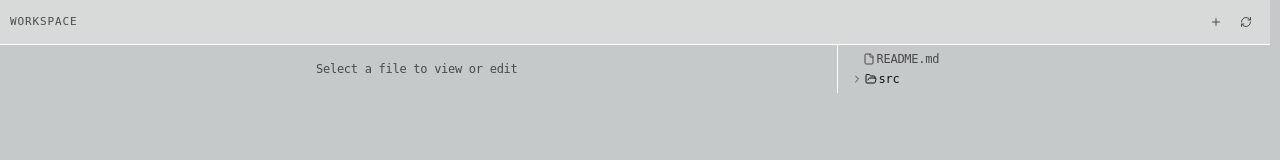
it: WorkspacePanel › renders source files through the highlighted code view
Click the button "src" at (857, 79), box [845,69,1266,89]
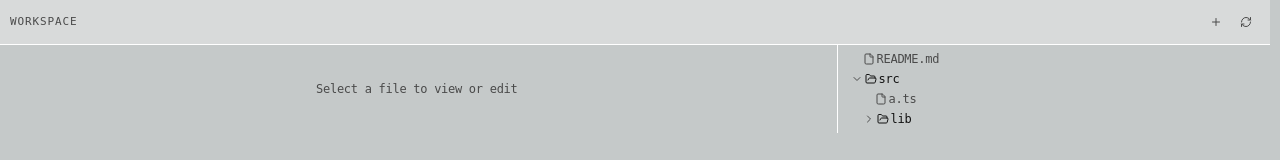
Click the button "a.ts" at (881, 99), box [845,89,1266,109]
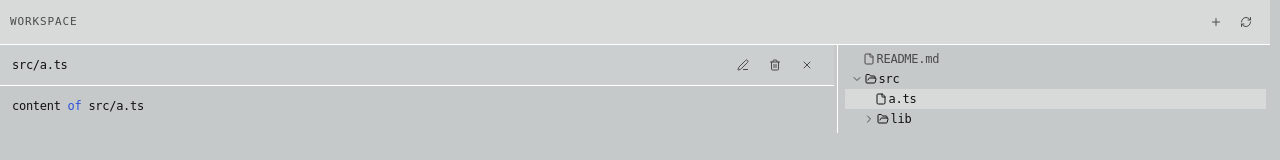
Now the element with class "code-view" is shown, box [12,99,144,113]
Now the text "of" is shown, box [68,99,82,113]
